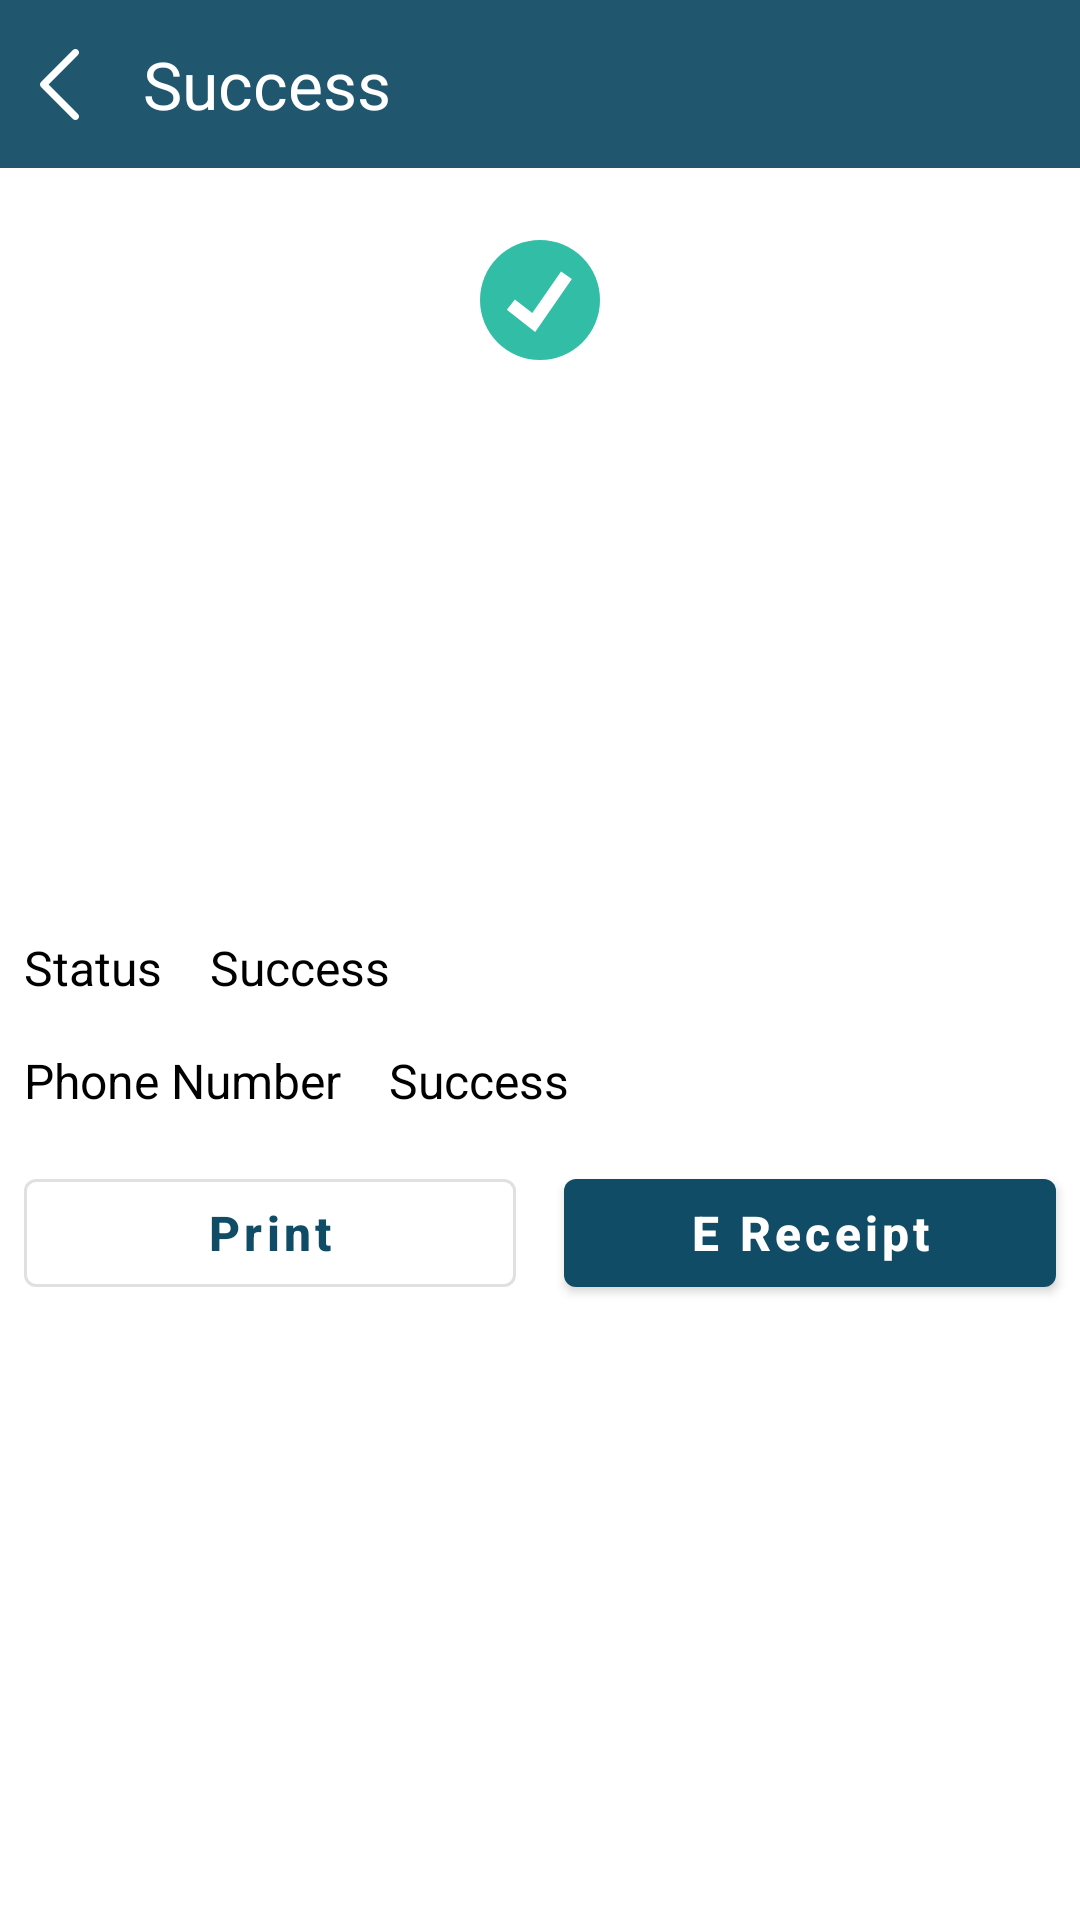

Icon bounding boxes for this 1080x1920 phone screenshot, format rect(x1, y1, x2, y2):
back: rect(40, 49, 79, 120)
check: rect(480, 240, 600, 360)
